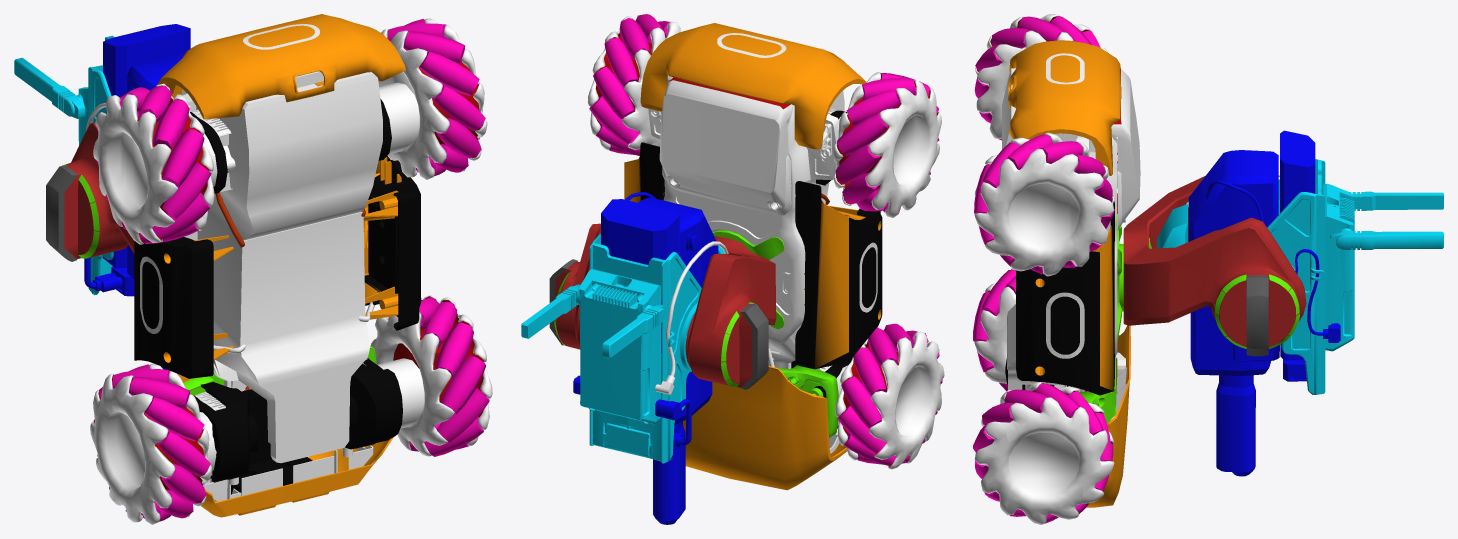
3 renders of one model, left to right at view 1: azimuth 30°, elevation 25°; view 2: azimuth 150°, elevation 25°; view 3: azimuth 270°, elevation 25°, orthographic. The views are drawn at different scales.
Parts seen in each view (by area): view 1: Chassis_down, Chassis_down_down, Armor Module_B, Armor Module_L, front_base, Mecanum Wheel_01 1, Mecanum Wheel_03 1, Wheel Rubber Sleeve_03, Wheel Rubber Sleeve_04, Wheel Rubber Sleeve_01, Wheel Rubber Sleeve_02, Mecanum Wheel_02_inside (+24 smaller); view 2: BackGap, Armor Module_B, Armor Module_F, Armor Module_L, top, Chassis_Top, guntop, Mecanum Wheel_03 1, Mecanum Wheel_01 1, Yuntai armor plate_L, Water Bullet Gun, Wheel Rubber Sleeve_03 (+17 smaller); view 3: Water Bullet Gun, Yuntai armor plate_R, Mecanum Wheel_04 1, Mecanum Wheel_02 1, Armor Module_R, Armor Module_B, guntop, Gimbal, top, Wheel Rubber Sleeve_04, Wheel Rubber Sleeve_02, BackGap (+16 smaller).
Boxes of the visible parts, x1,y1,x2,y2 form: Chassis_down: (184,72,382,463); Chassis_down_down: (239,212,369,385); Armor Module_B: (157,14,405,119); Armor Module_L: (134,237,213,378); front_base: (201,363,402,485); Mecanum Wheel_01 1: (90,373,175,524); Mecanum Wheel_03 1: (93,94,177,244); Wheel Rubber Sleeve_03: (96,85,211,243); Wheel Rubber Sleeve_04: (387,19,485,176); Wheel Rubber Sleeve_01: (93,364,210,521); Wheel Rubber Sleeve_02: (388,297,489,456); Mecanum Wheel_02_inside: (370,312,454,456); BackGap: (659,80,792,215); Armor Module_B: (640,23,866,149); Armor Module_F: (683,366,846,490); Armor Module_L: (795,181,882,369); top: (575,269,660,424); Chassis_Top: (648,75,839,368); guntop: (589,234,701,463); Mecanum Wheel_03 1: (865,80,941,217); Mecanum Wheel_01 1: (868,331,944,469); Yuntai armor plate_L: (706,257,776,387); Water Bullet Gun: (638,197,718,524); Wheel Rubber Sleeve_03: (835,73,939,213); Water Bullet Gun: (1188,150,1279,476); Yuntai armor plate_R: (1124,225,1300,348); Mecanum Wheel_04 1: (974,148,1114,276); Mecanum Wheel_02 1: (974,397,1114,524); Armor Module_R: (1016,201,1114,395); Armor Module_B: (1008,40,1121,175); guntop: (1267,159,1325,394); Gimbal: (1123,179,1306,324); top: (1323,183,1354,351); Wheel Rubber Sleeve_04: (974,134,1114,274); Wheel Rubber Sleeve_02: (973,383,1113,523); BackGap: (1111,69,1140,229).
Bounding box in the file's own units: 0.2449 × 0.3195 × 0.3296.
